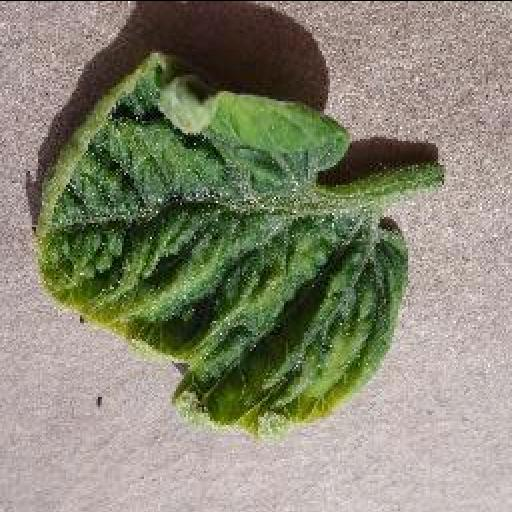disease_tomato: (30, 50, 412, 434)
